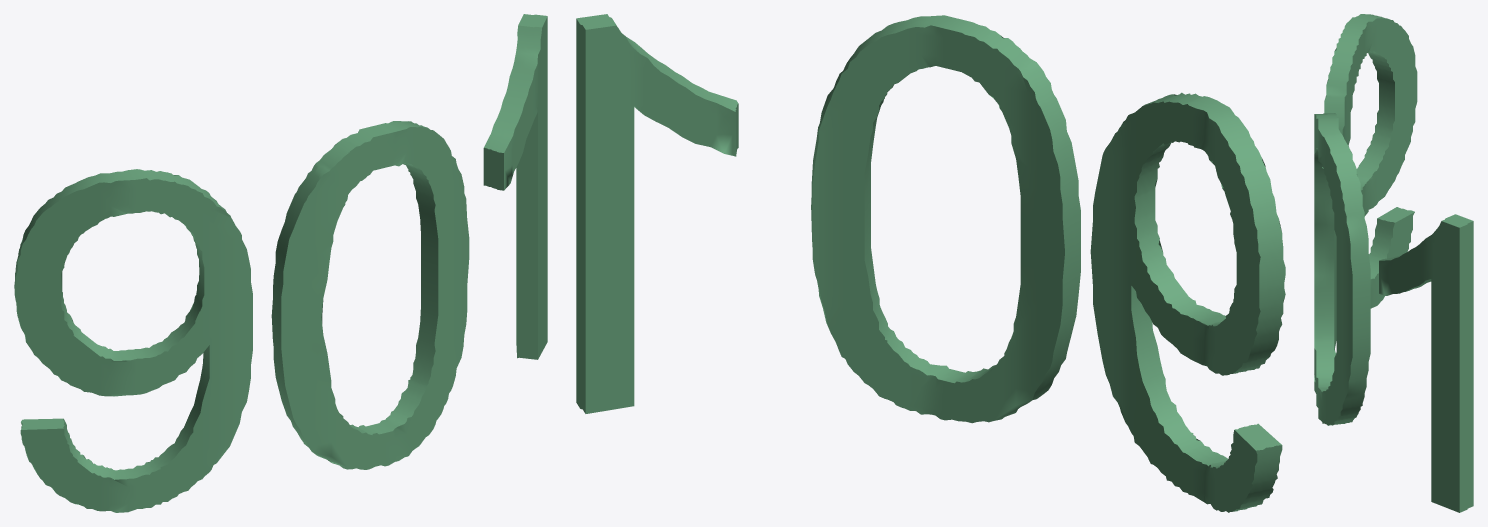
The model's file is port_1.obj.
3 renders of one model, left to right at view 1: azimuth 30°, elevation 25°; view 2: azimuth 150°, elevation 25°; view 3: azimuth 270°, elevation 25°, orthographic. The views are drawn at different scales.
Visible parts, largest first — view 1: Text01; view 2: Text01; view 3: Text01.
Part boxes in pixels (x1,y1,x2,y2): Text01: (14, 14, 547, 512); Text01: (576, 14, 1285, 512); Text01: (1314, 14, 1473, 512).
Size of the model in its own units: 2.84 by 1.59 by 0.79.
